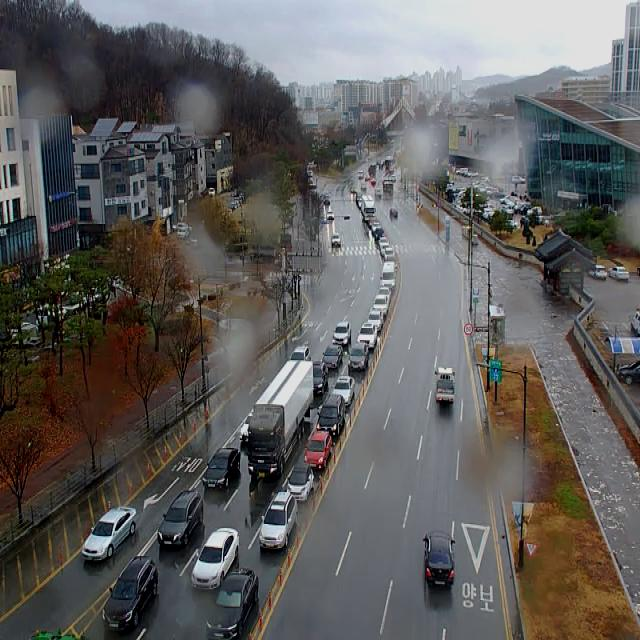Car: (102, 555, 158, 632), (206, 568, 258, 640), (81, 506, 137, 562), (191, 528, 239, 589), (157, 491, 203, 546), (259, 492, 297, 549), (423, 532, 455, 586), (202, 448, 240, 489), (316, 394, 344, 436), (304, 430, 332, 470), (286, 465, 314, 501), (333, 376, 355, 406), (348, 342, 369, 371), (618, 360, 640, 385), (356, 322, 377, 348), (240, 409, 254, 446), (314, 361, 328, 396), (322, 345, 343, 368), (333, 322, 350, 346), (290, 346, 311, 361), (368, 310, 383, 331), (373, 294, 388, 315), (588, 265, 607, 280), (608, 267, 628, 280), (380, 287, 391, 305), (372, 228, 384, 240), (388, 256, 397, 271), (177, 228, 189, 238), (332, 234, 341, 246), (385, 248, 393, 261), (327, 212, 334, 220), (209, 188, 215, 196)
Truck: (248, 361, 313, 477), (435, 368, 455, 402), (30, 630, 83, 640), (380, 261, 396, 288), (362, 195, 376, 221), (631, 309, 640, 336)
